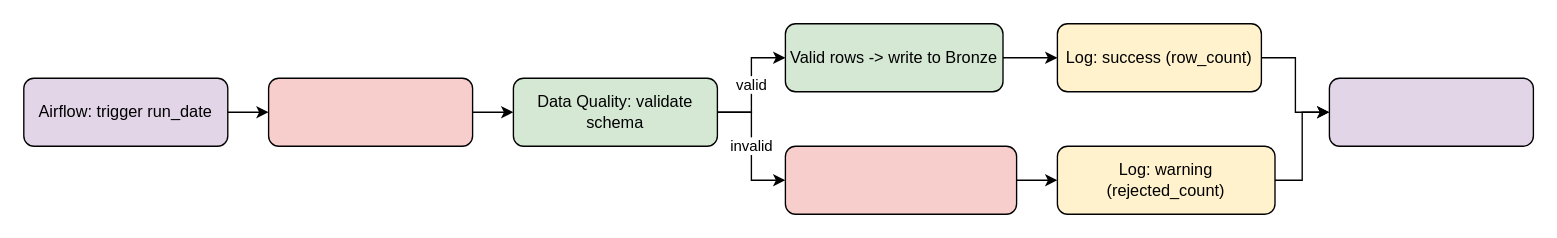
The diagram is 1557 pixels wide and 238 high, and some of its shapes have lost their labels. The centre of each missing label's shape, as x and y in pixels:
"Bronze: read raw file" goes at (370,111).
"Invalid rows -> write to Quarantine" goes at (900,179).
"Report status to Airflow" goes at (1430,111).
